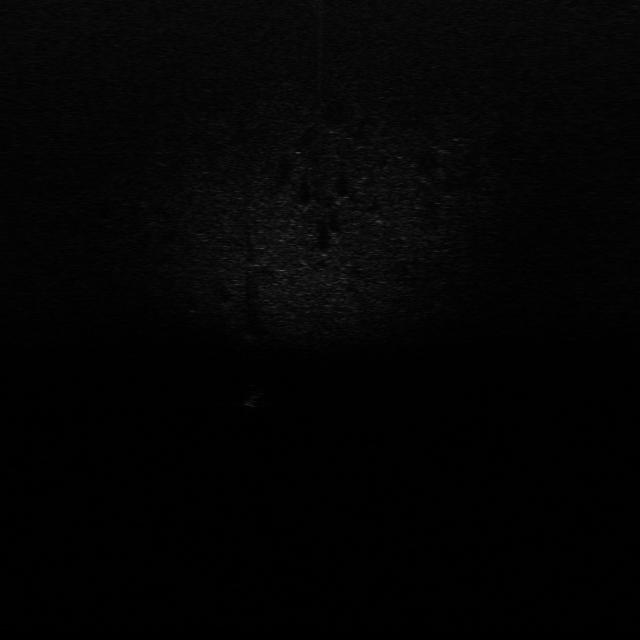human body: (237, 378, 272, 416)
